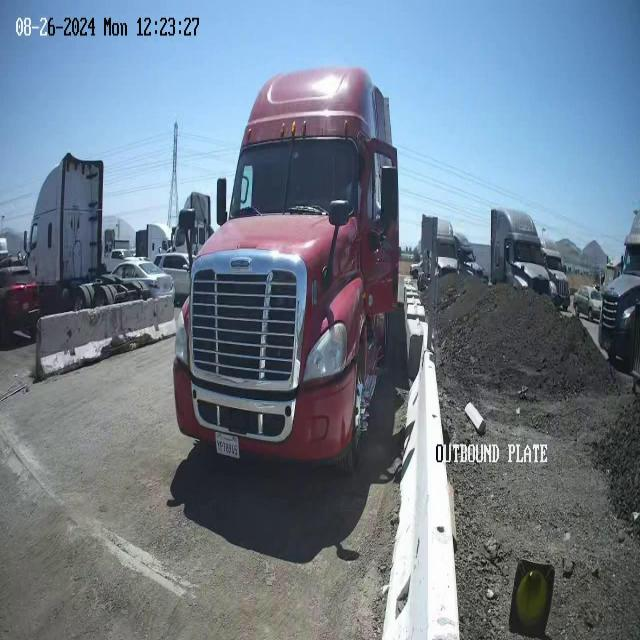TRUCK_OUT: (172, 65, 400, 475)
